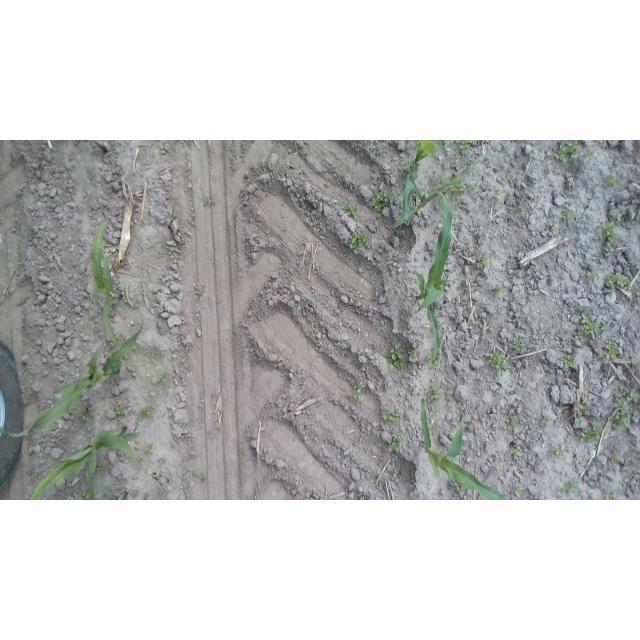Maize: (0, 326, 142, 434), (420, 398, 510, 500), (32, 428, 141, 500), (394, 152, 486, 229), (422, 188, 454, 360), (88, 217, 120, 348), (402, 140, 446, 221), (101, 482, 127, 500)
Weeds: (608, 385, 640, 431), (575, 311, 609, 341), (580, 420, 605, 445), (602, 221, 619, 257), (370, 190, 391, 219), (344, 231, 368, 256), (553, 141, 579, 164), (386, 344, 406, 373), (606, 274, 632, 293), (487, 352, 509, 374), (445, 180, 468, 201), (381, 408, 404, 425), (387, 432, 404, 452), (347, 382, 364, 402), (604, 342, 620, 362), (343, 198, 359, 218), (79, 402, 94, 423), (426, 386, 444, 403), (139, 403, 154, 421), (428, 349, 441, 367), (560, 211, 577, 224), (448, 140, 472, 149), (561, 355, 575, 370), (487, 183, 501, 197), (566, 479, 579, 493), (605, 174, 617, 188), (551, 444, 563, 457), (574, 412, 587, 424), (477, 254, 488, 268), (586, 268, 598, 280), (107, 335, 119, 347), (112, 404, 124, 416), (156, 372, 169, 383), (488, 284, 505, 292), (540, 329, 552, 340), (519, 156, 529, 169), (430, 407, 441, 418), (510, 440, 519, 453), (409, 350, 418, 363), (82, 486, 90, 500), (455, 481, 466, 491), (505, 419, 516, 429), (144, 443, 154, 453), (95, 464, 106, 473), (513, 341, 522, 352), (611, 452, 621, 461), (515, 484, 522, 496), (555, 487, 563, 497), (542, 416, 552, 424), (513, 205, 523, 213), (584, 149, 592, 159), (409, 480, 417, 489), (454, 200, 462, 209), (604, 492, 613, 500), (550, 218, 555, 232), (576, 401, 586, 408), (411, 140, 422, 146), (472, 182, 479, 190), (451, 151, 459, 158), (427, 423, 432, 434), (299, 207, 306, 214), (186, 229, 193, 236), (88, 314, 96, 320), (161, 458, 168, 464), (636, 464, 640, 474), (617, 211, 623, 217), (379, 459, 385, 465), (132, 344, 137, 351), (131, 492, 135, 500), (636, 263, 640, 270), (496, 468, 501, 473), (50, 168, 55, 172), (609, 140, 612, 142)
